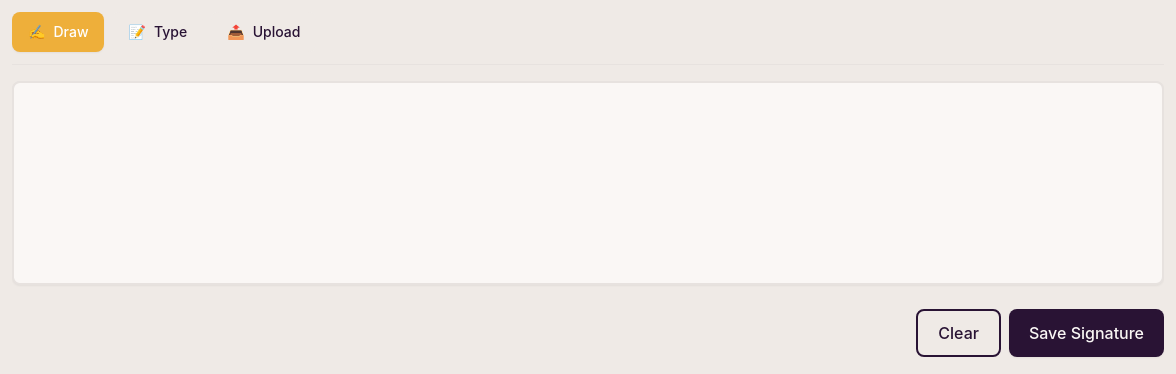
Test: SignaturePad Component › should switch to upload mode when clicked
Click the tab "📤 Upload": {"x": 264, "y": 32} [211,12,316,52]
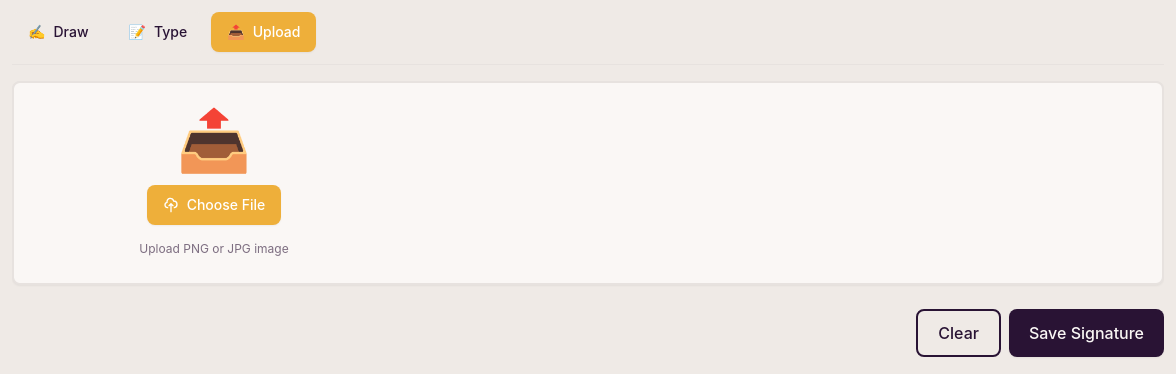
Expected: the text "Upload PNG or JPG image" is shown, [139,241,289,257]
